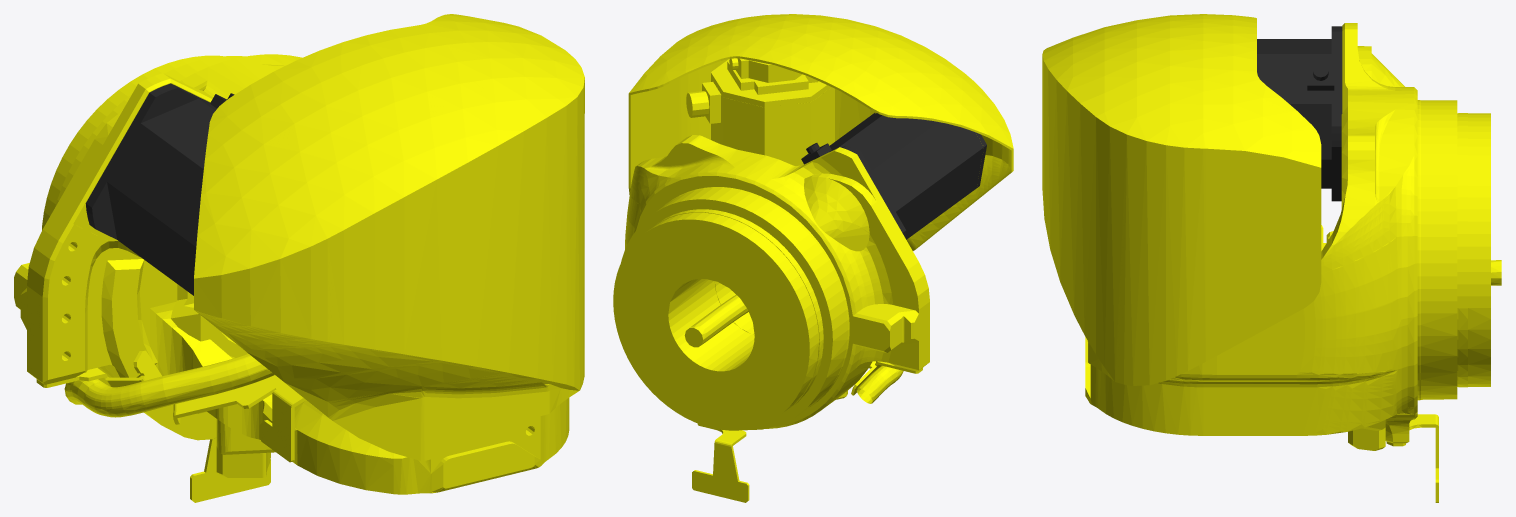
The picture shows the model from 3 angles, left to right: view 1: azimuth 30°, elevation 25°; view 2: azimuth 150°, elevation 25°; view 3: azimuth 270°, elevation 25°; orthographic projection. The views are drawn at different scales.
Parts seen in each view (by area): view 1: node; view 2: node; view 3: node.
Boxes of the visible parts, x1,y1,x2,y2 form: node: (14,14,584,502); node: (613,14,1013,502); node: (1042,14,1501,502).
Size of the model in its own units: 403 by 466 by 428.
